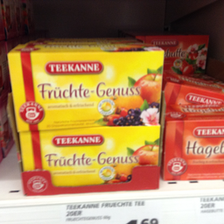tea: (7, 43, 166, 130), (18, 126, 159, 188), (162, 104, 224, 181)
